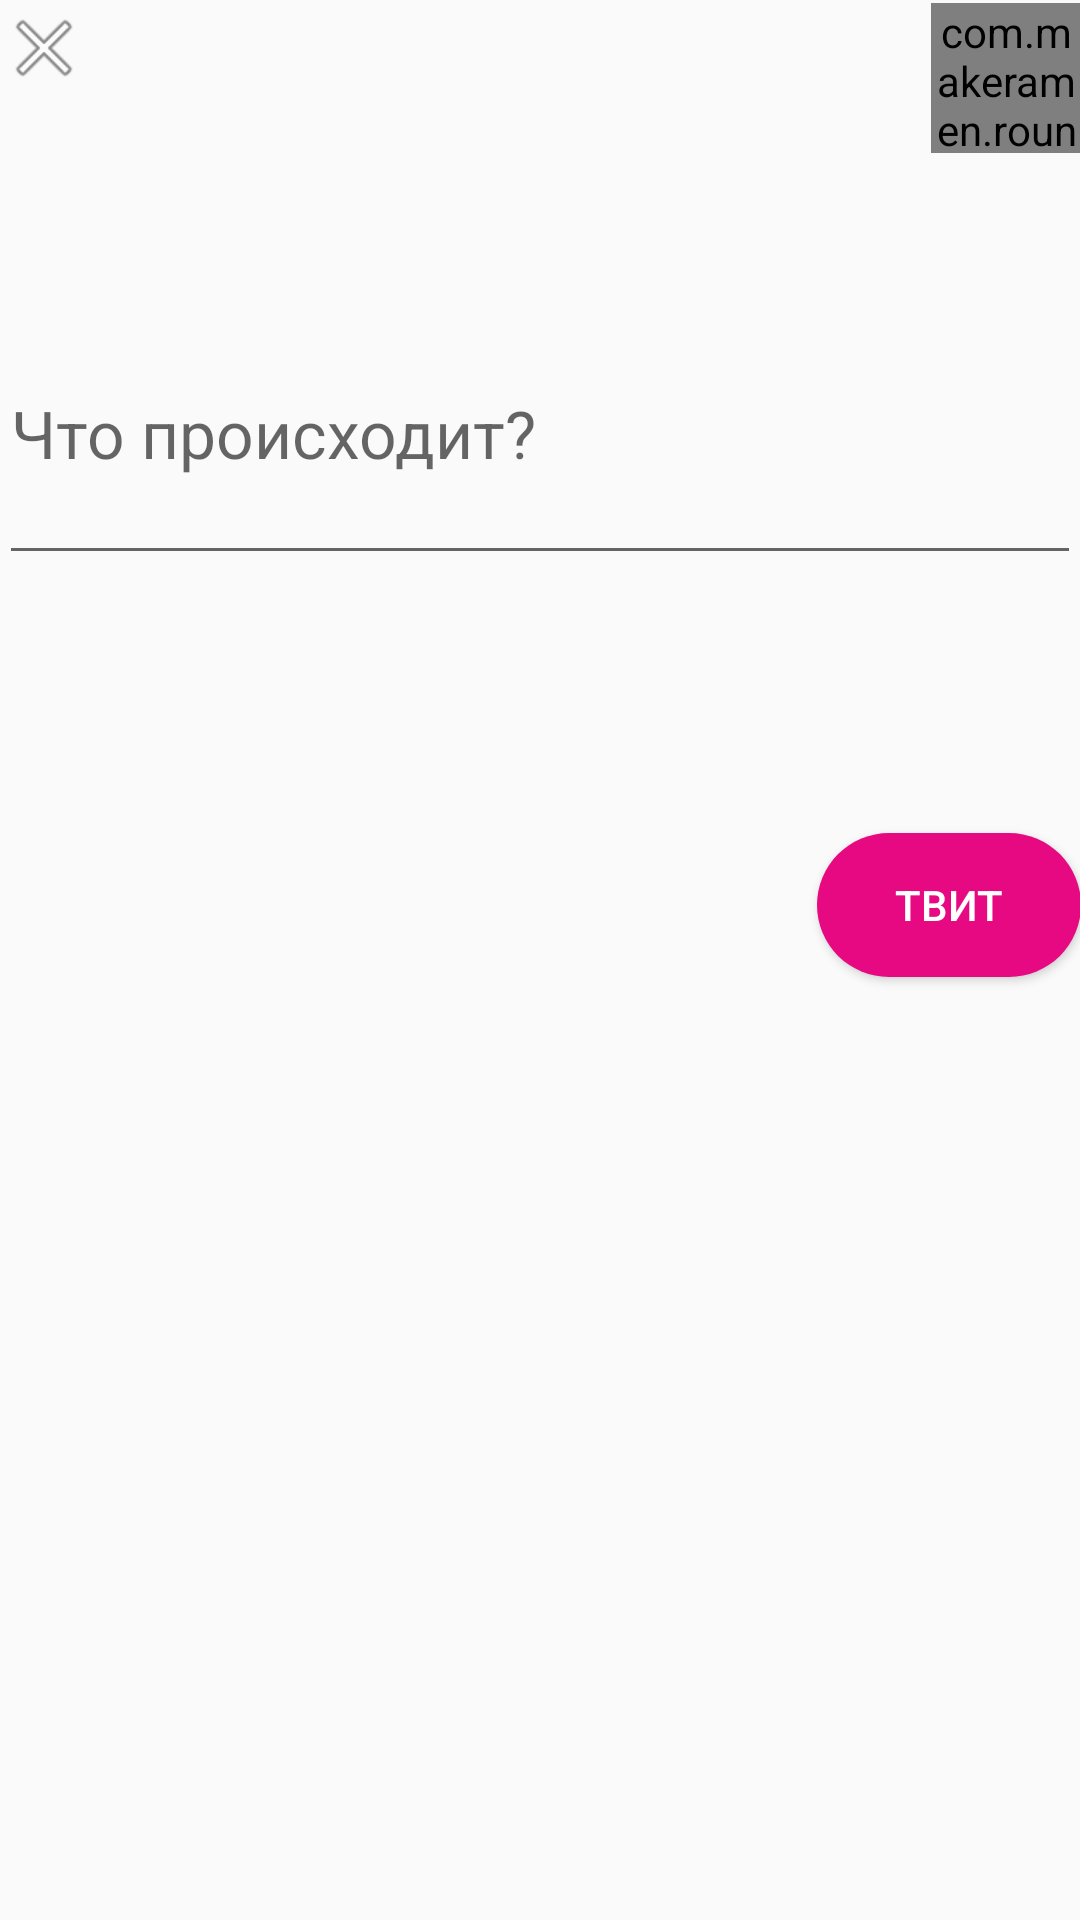

Screen size 1080 x 1920. Icon name, then its center in pixels as (x=x, y=y):
close clear cancel: (x=44, y=48)
